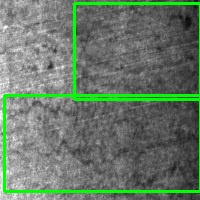crazing: (5, 95, 200, 191), (74, 3, 200, 99)
